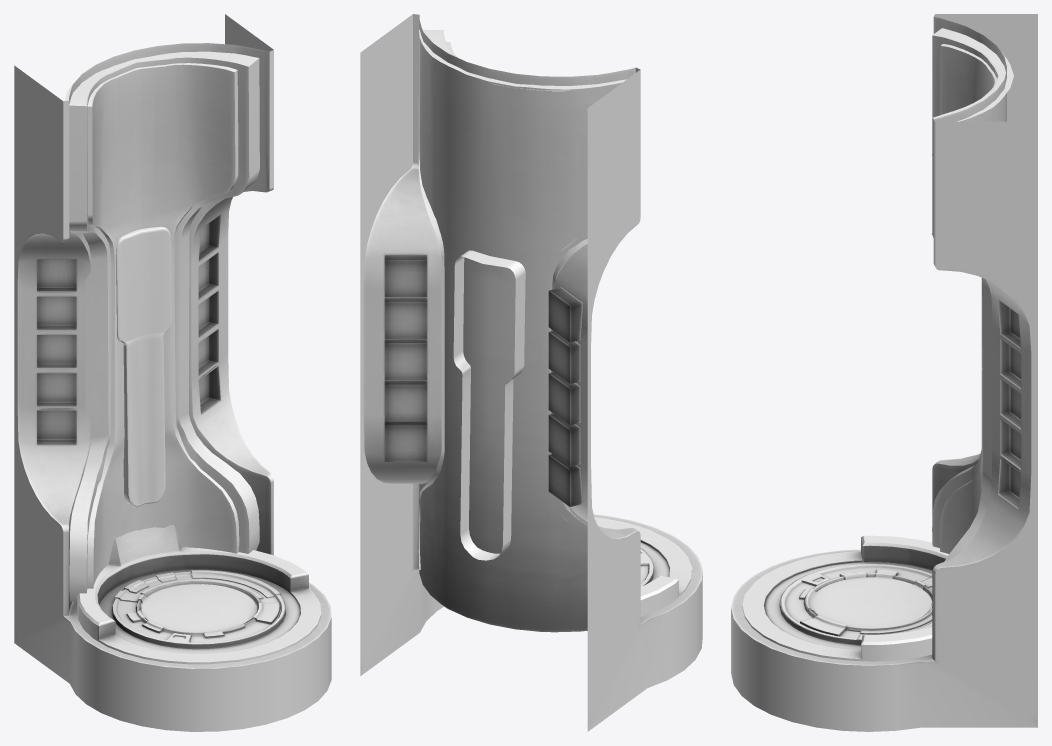
File: Nostos_CryoPod.fbx
3 views of the same model, side by side, from view 1: azimuth 30°, elevation 25°; view 2: azimuth 150°, elevation 25°; view 3: azimuth 270°, elevation 25° (orthographic). The views are drawn at different scales.
Parts seen in each view (by area): view 1: Nostos_CryoPod; view 2: Nostos_CryoPod; view 3: Nostos_CryoPod.
Part boxes in pixels (x1,y1,x2,y2): Nostos_CryoPod: [14, 14, 331, 731]; Nostos_CryoPod: [360, 14, 702, 731]; Nostos_CryoPod: [731, 14, 1037, 731].
Size of the model in its own units: 0.9706 by 2.35 by 1.08.
